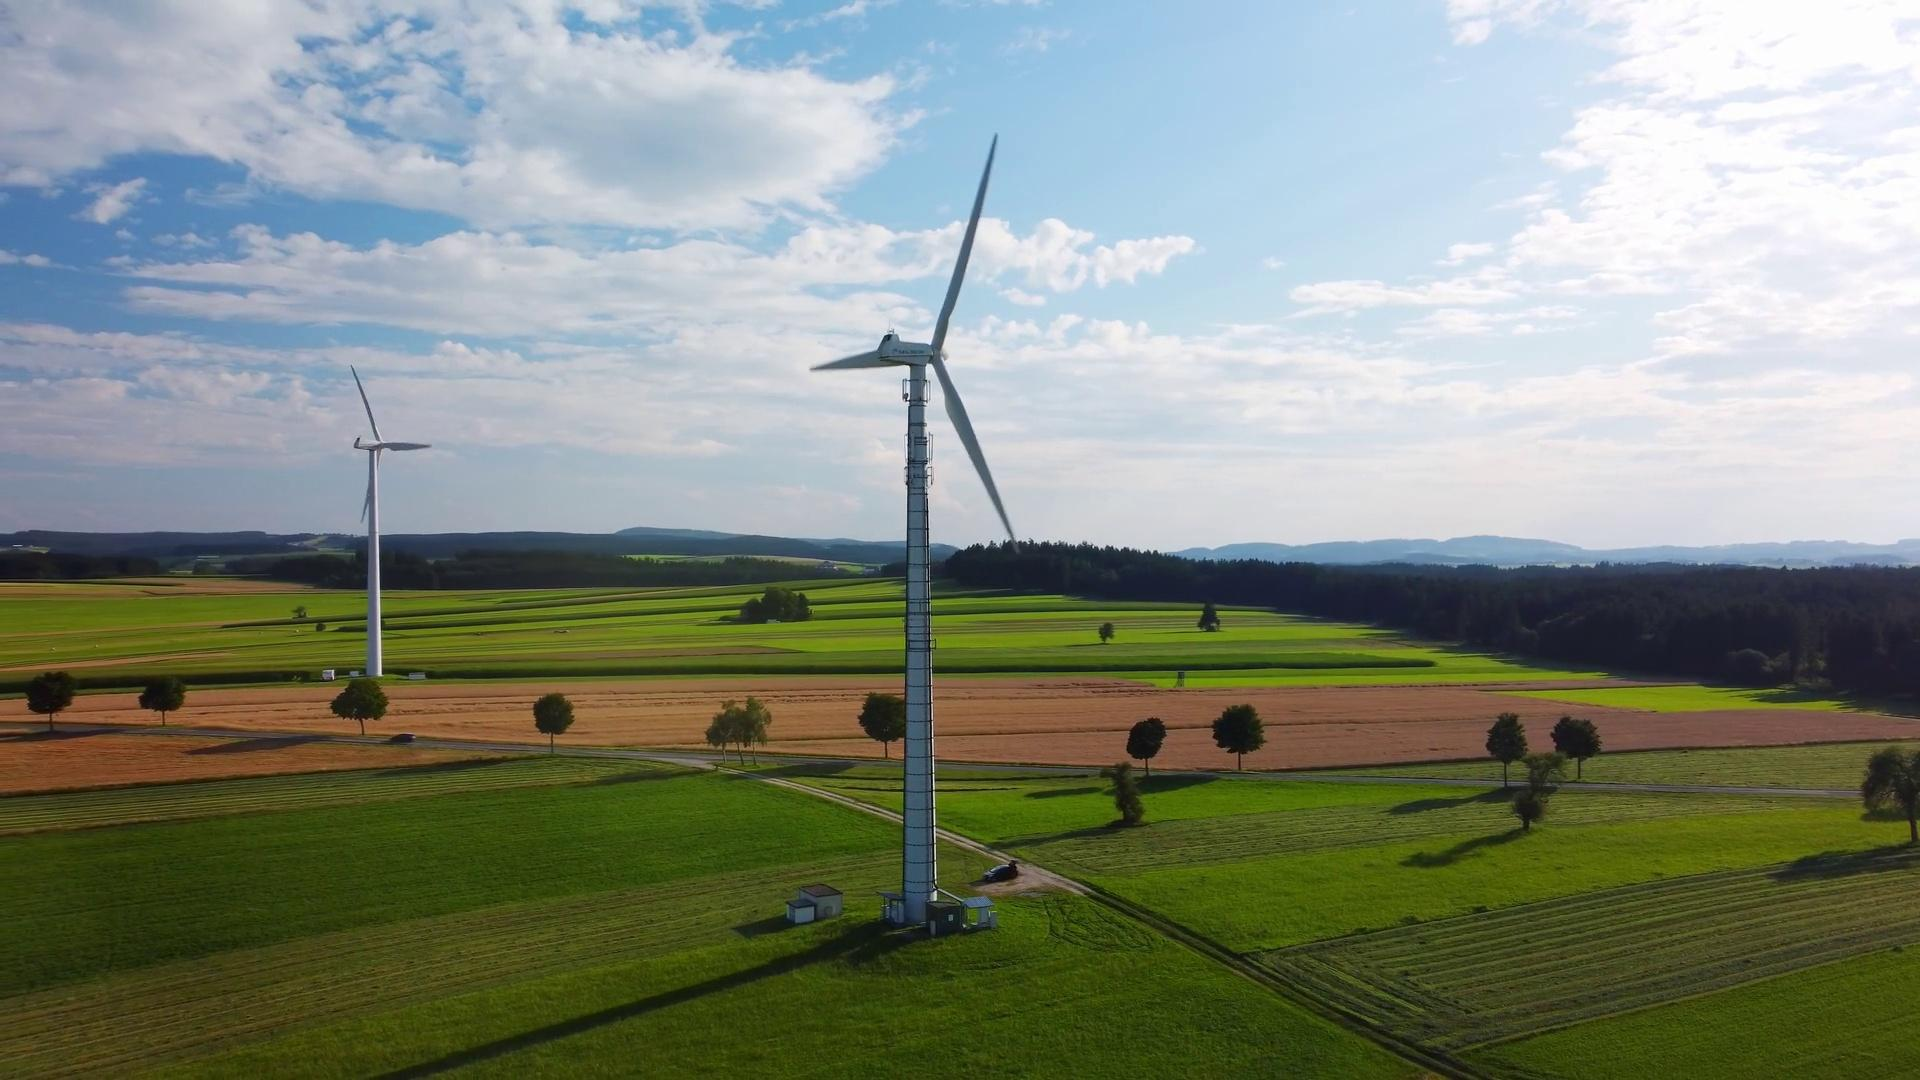turbine: (799, 123, 1106, 957), (369, 355, 508, 695)
